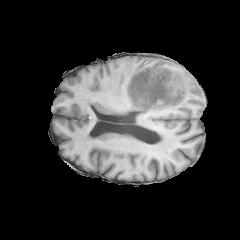glioma: (109, 57, 200, 114)
